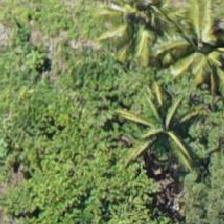coconut_tree: (117, 90, 207, 180), (166, 8, 223, 98), (89, 0, 179, 56)
